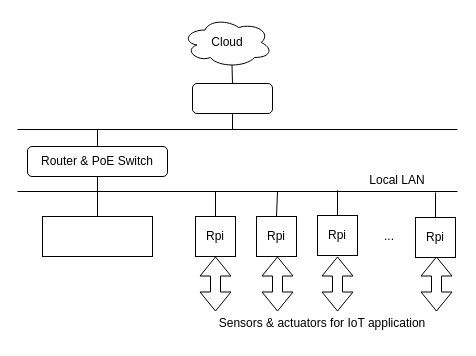
Some shapes in this 476 by 356 pixel diagram are drawn without their labels. The shapes that lost their labels are listed below. From the top down, each one's box as (x1, y1, x2, y2) in pixels, then its label:
(192, 82, 272, 114): Router
(42, 216, 152, 256): Boot Server (Tofu)
